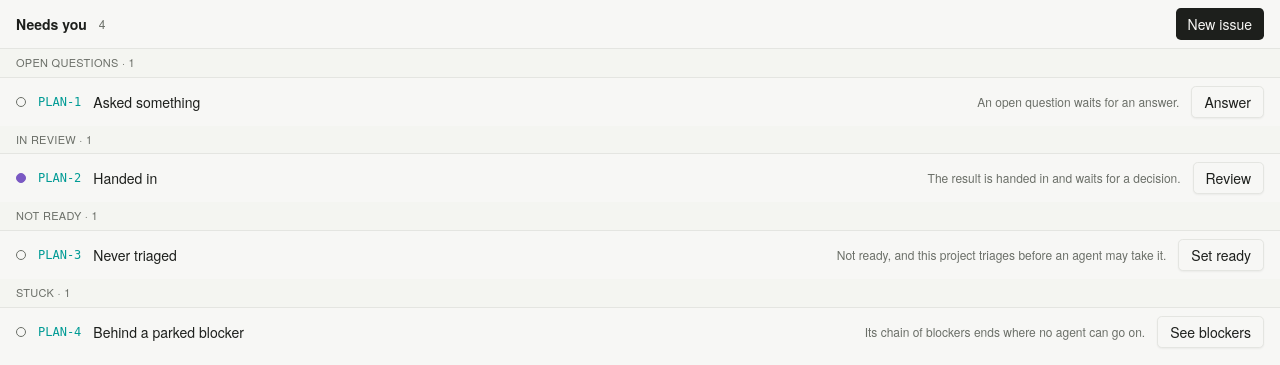
says why a refused triage did not happen and leaves the row where it is
Click the button "Set ready": (1221, 255) [1178, 239, 1264, 271]
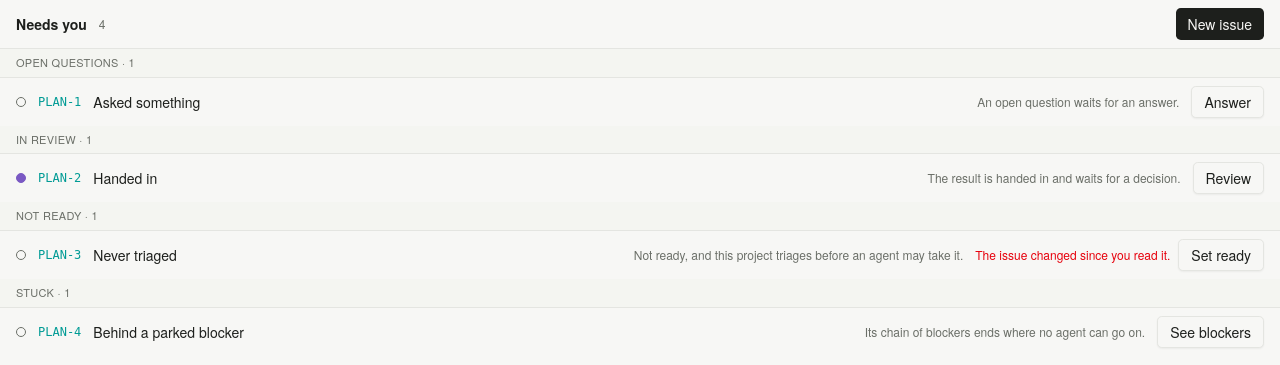
Check: the text "Never triaged" is shown, box [93, 245, 177, 265]
Check: the message reads "The issue changed since you read it.", box [975, 246, 1170, 263]
